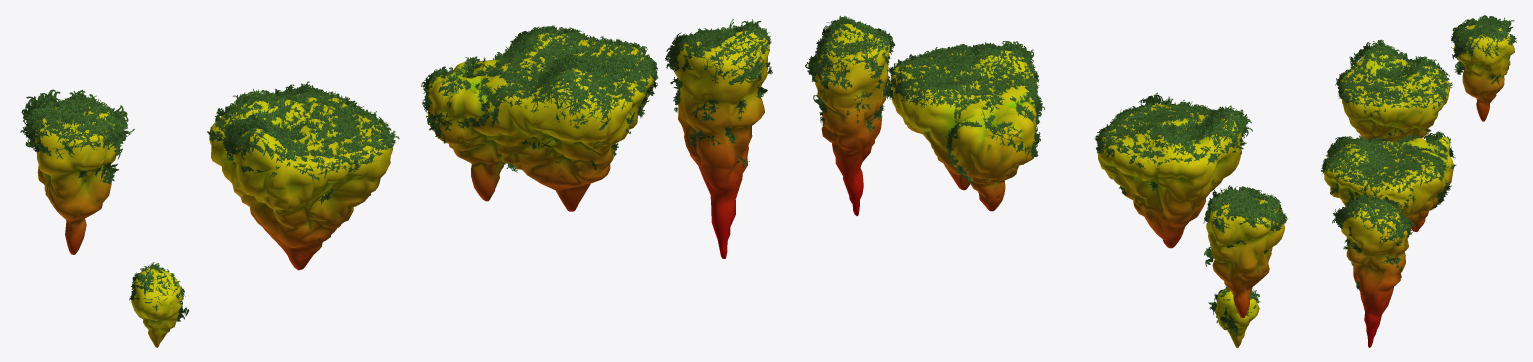
Rendered from RockTest.FBX.
3 views of the same model, side by side, from view 1: azimuth 30°, elevation 25°; view 2: azimuth 150°, elevation 25°; view 3: azimuth 270°, elevation 25° (orthographic). The views are drawn at different scales.
Visible parts, largest first — view 1: Rock_05, Rock_04, RockGrass_05, Rock_03, RockGrass_04, Rock_02, Rock_Grass_02, RockGrass_03, Rock_01, RockGrass_01; view 2: Rock_05, RockGrass_05, Rock_04, Rock_03, RockGrass_04, Rock_02, RockGrass_03, Rock_Grass_02, Rock_01, RockGrass_01; view 3: RockGrass_05, RockGrass_04, Rock_04, Rock_03, Rock_05, Rock_02, RockGrass_03, Rock_Grass_02, RockGrass_01.
Boxes of the visible parts, left/top/right/bottom form: Rock_05: left=427, top=33, right=653, bottom=211; Rock_04: left=209, top=92, right=393, bottom=270; RockGrass_05: left=421, top=25, right=658, bottom=173; Rock_03: left=674, top=30, right=769, bottom=258; RockGrass_04: left=207, top=81, right=399, bottom=204; Rock_02: left=28, top=107, right=119, bottom=254; Rock_Grass_02: left=20, top=89, right=134, bottom=183; RockGrass_03: left=665, top=19, right=772, bottom=167; Rock_01: left=131, top=268, right=183, bottom=347; RockGrass_01: left=129, top=262, right=189, bottom=321; Rock_05: left=890, top=50, right=1037, bottom=211; RockGrass_05: left=884, top=41, right=1044, bottom=184; Rock_04: left=1098, top=104, right=1242, bottom=248; Rock_03: left=813, top=23, right=889, bottom=215; RockGrass_04: left=1094, top=92, right=1252, bottom=194; Rock_02: left=1206, top=198, right=1284, bottom=318; RockGrass_03: left=805, top=15, right=895, bottom=132; Rock_Grass_02: left=1203, top=185, right=1287, bottom=266; Rock_01: left=1215, top=289, right=1259, bottom=347; RockGrass_01: left=1208, top=286, right=1260, bottom=336; RockGrass_05: left=1321, top=133, right=1456, bottom=209; RockGrass_04: left=1335, top=39, right=1452, bottom=140; Rock_04: left=1341, top=51, right=1450, bottom=141; Rock_03: left=1341, top=200, right=1408, bottom=347; Rock_05: left=1324, top=138, right=1453, bottom=231; Rock_02: left=1453, top=25, right=1514, bottom=121; RockGrass_03: left=1332, top=193, right=1416, bottom=289; Rock_Grass_02: left=1451, top=15, right=1516, bottom=89; RockGrass_01: left=1423, top=131, right=1455, bottom=158.
Bounding box in the file's own units: 4.45 × 1.63 × 1.79.
